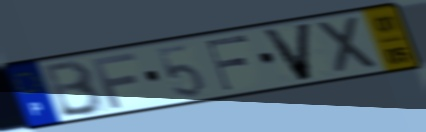5: (153, 41, 208, 99)
B: (42, 58, 107, 120)
F: (88, 50, 139, 111), (203, 33, 251, 93)
V: (258, 20, 315, 84)
X: (313, 13, 383, 77)
